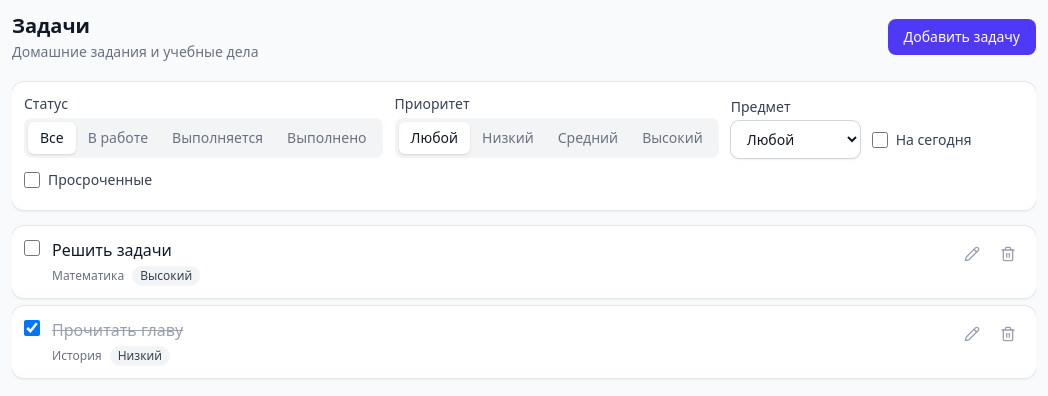
Test: TasksPage › filters by status
Click the button "Выполнено" at (327, 138), box [275,122,379,154]
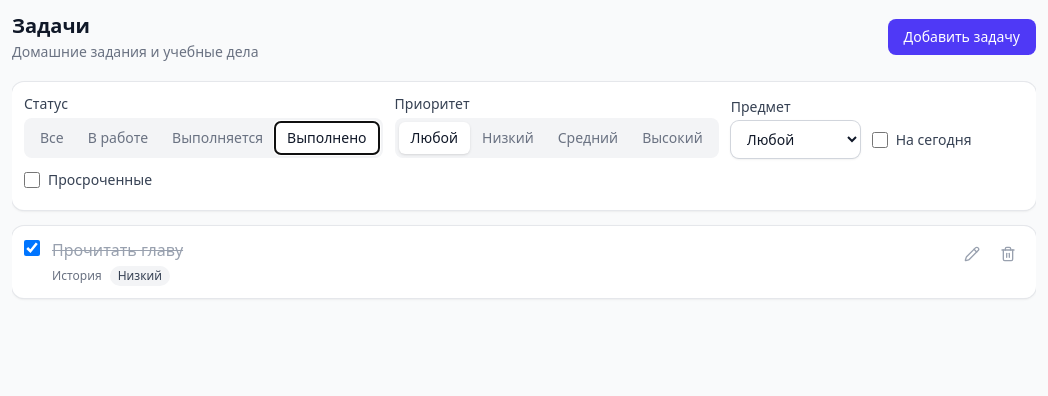
Expected: the text "Прочитать главу" is shown, [52,239,183,261]
Result: the text "Решить задачи" is gone
